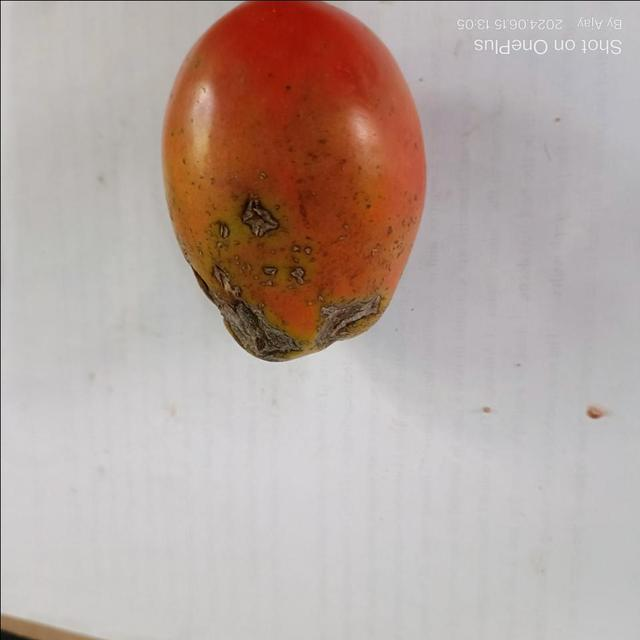Bacterial Spot Fruit: (44, 34, 194, 207)
